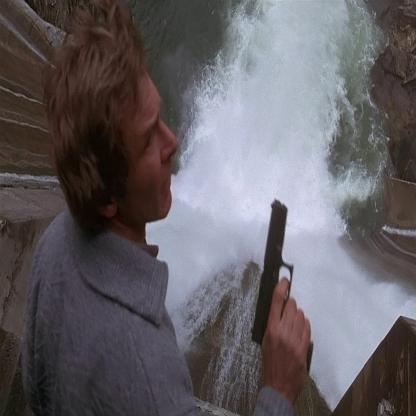gun: (258, 188, 310, 382)
